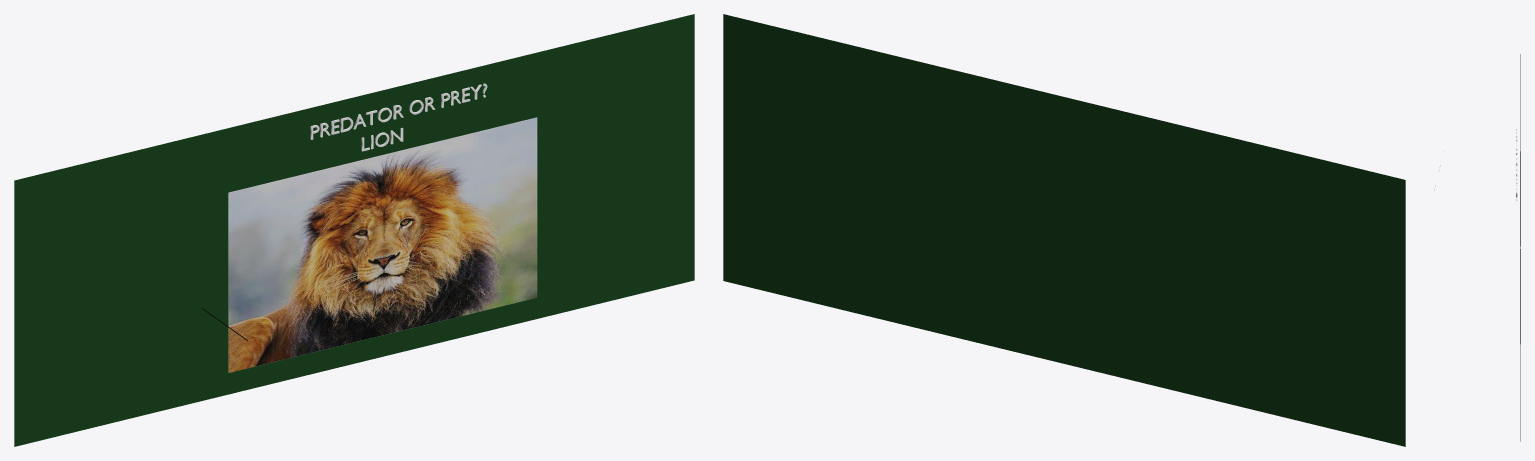
Rendered from lion.gltf.
The picture shows the model from 3 angles, left to right: view 1: azimuth 30°, elevation 25°; view 2: azimuth 150°, elevation 25°; view 3: azimuth 270°, elevation 25°; orthographic projection. The views are drawn at different scales.
Parts seen in each view (by area): view 1: Plane.013, Plane, Text.008; view 2: Plane.013; view 3: Plane.013, Text.008.
Boxes of the visible parts, bbox=[...] form: Plane.013: bbox=[14, 14, 694, 446]; Plane: bbox=[228, 117, 537, 372]; Text.008: bbox=[310, 83, 487, 139]; Plane.013: bbox=[723, 14, 1405, 446]; Plane.013: bbox=[1520, 54, 1520, 441]; Text.008: bbox=[1516, 129, 1517, 200].
Size of the model in its own units: 15.94 by 5.96 by 2.43.
5 materials, 1 textured.
